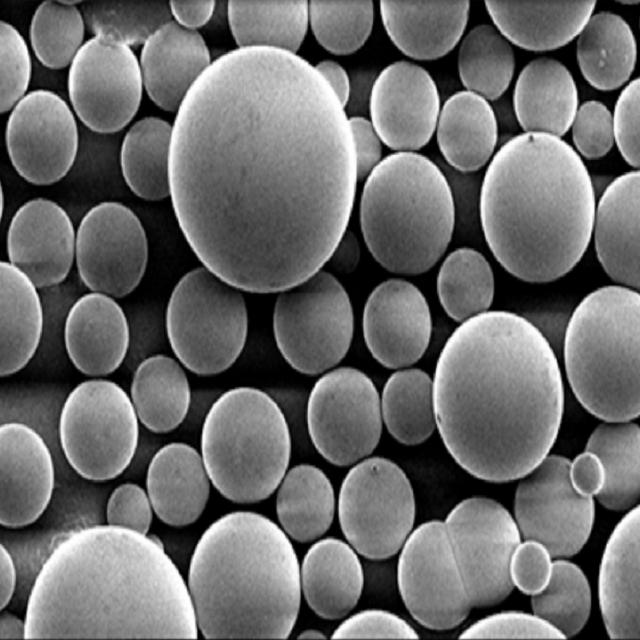cells: (166, 42, 356, 290), (430, 309, 563, 479), (24, 525, 200, 640), (483, 132, 595, 282), (396, 500, 521, 630), (190, 512, 301, 640), (362, 154, 454, 278), (563, 281, 640, 425), (202, 388, 290, 502), (512, 450, 597, 560), (166, 270, 248, 376), (338, 453, 417, 563), (272, 275, 354, 373), (60, 381, 139, 479), (70, 35, 144, 134), (308, 371, 385, 466), (141, 22, 212, 115), (8, 91, 78, 185), (79, 204, 148, 298), (368, 59, 440, 149), (364, 283, 433, 372), (8, 198, 73, 289), (485, 0, 595, 52), (0, 425, 55, 529), (598, 505, 640, 640), (595, 169, 640, 291), (65, 294, 130, 378), (379, 0, 468, 61), (303, 538, 366, 623), (530, 558, 594, 640), (148, 444, 208, 530), (274, 462, 336, 545), (0, 260, 43, 376), (457, 19, 518, 100), (437, 244, 497, 326), (515, 59, 578, 137), (585, 422, 640, 510), (441, 89, 499, 172), (574, 14, 637, 90), (229, 0, 309, 59), (132, 356, 192, 434), (381, 366, 437, 446), (121, 118, 173, 199), (32, 1, 85, 71), (310, 0, 376, 54), (0, 21, 32, 116), (346, 114, 384, 185), (571, 102, 617, 159), (512, 536, 554, 597), (613, 79, 640, 172), (106, 482, 152, 536), (315, 60, 351, 112), (570, 451, 604, 498), (168, 0, 217, 28)
